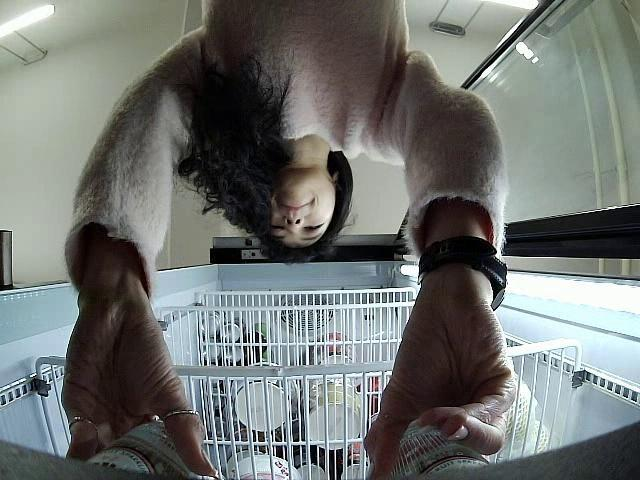18_trevi: (371, 412, 498, 480), (86, 420, 194, 480)
